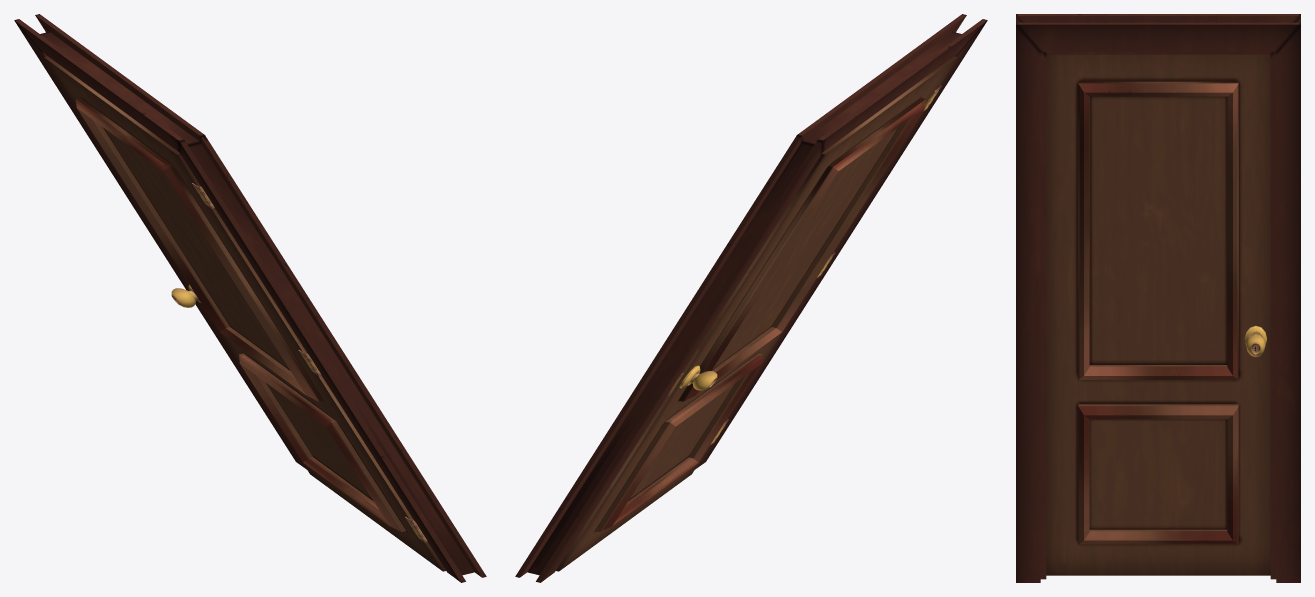
The model's file is INV_Door_01.fbx.
3 views of the same model, side by side, from view 1: azimuth 30°, elevation 25°; view 2: azimuth 150°, elevation 25°; view 3: azimuth 270°, elevation 25° (orthographic). The views are drawn at different scales.
Visible parts, largest first — view 1: INV_Door_01; view 2: INV_Door_01; view 3: INV_Door_01.
Part boxes in pixels (x1,y1,x2,y2): INV_Door_01: (14, 14, 486, 582); INV_Door_01: (515, 14, 987, 582); INV_Door_01: (1016, 14, 1300, 582).
Bounding box in the file's own units: 267 × 424 × 249.
